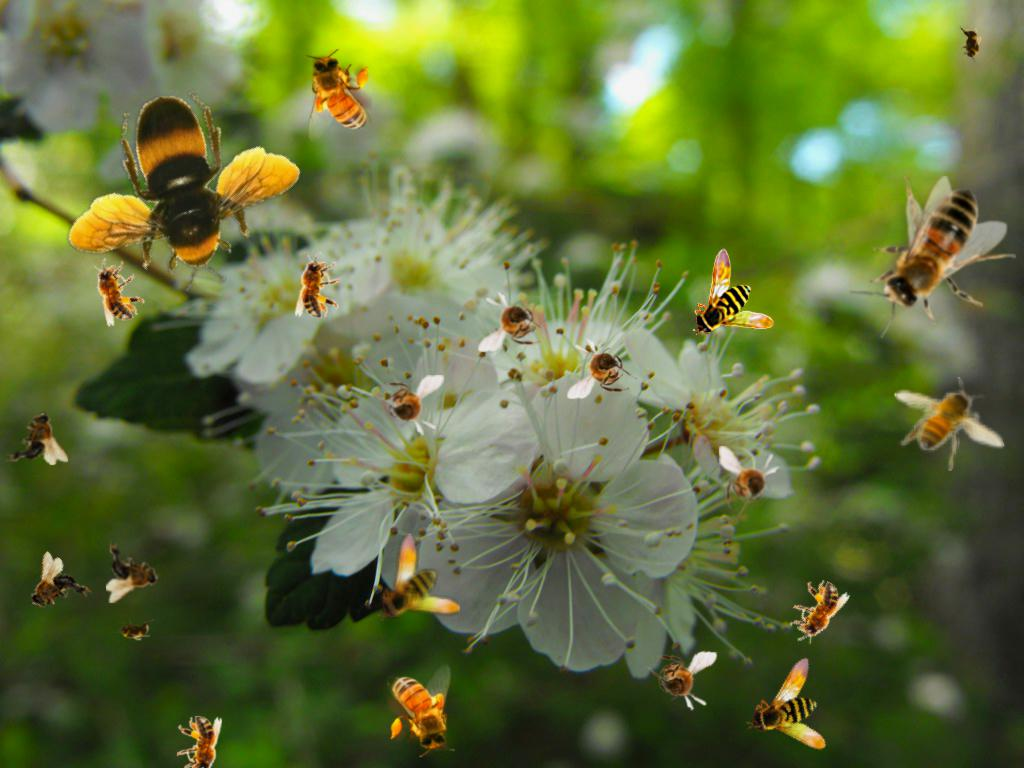Bee: (29, 51, 321, 342), (849, 176, 1016, 338), (744, 645, 854, 759), (894, 377, 1005, 471), (692, 248, 774, 336), (378, 533, 460, 621), (13, 548, 96, 630), (304, 49, 372, 142), (387, 664, 455, 757), (780, 572, 852, 653), (81, 250, 151, 329), (643, 647, 718, 713), (374, 375, 444, 436), (478, 291, 548, 352), (719, 446, 780, 516), (567, 338, 637, 399), (6, 412, 68, 465), (106, 541, 159, 603), (295, 252, 340, 318), (177, 716, 222, 768), (959, 23, 983, 65), (114, 619, 154, 641)
